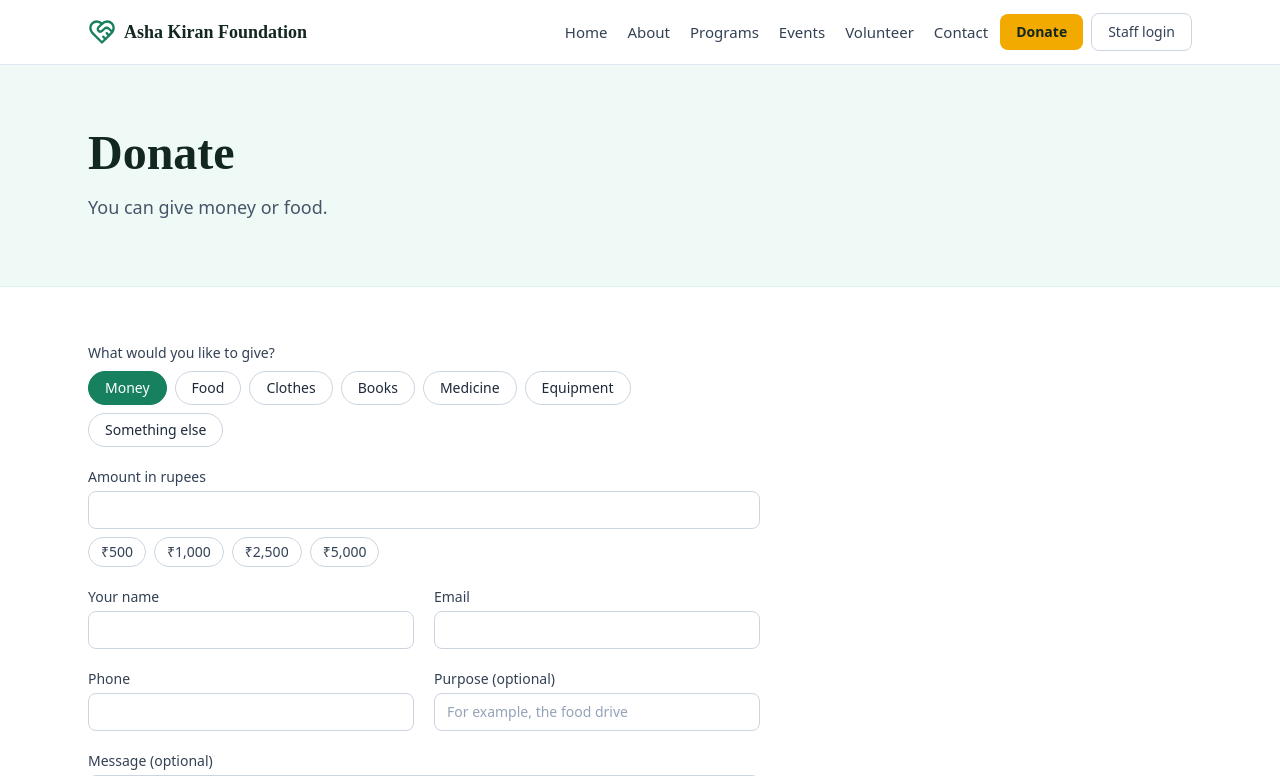
it: donation inquiry form › needs an email or a phone number
Step 1. Type "Ravi" into the field labelled "Your name" → [251, 630], box [88,611,414,649]
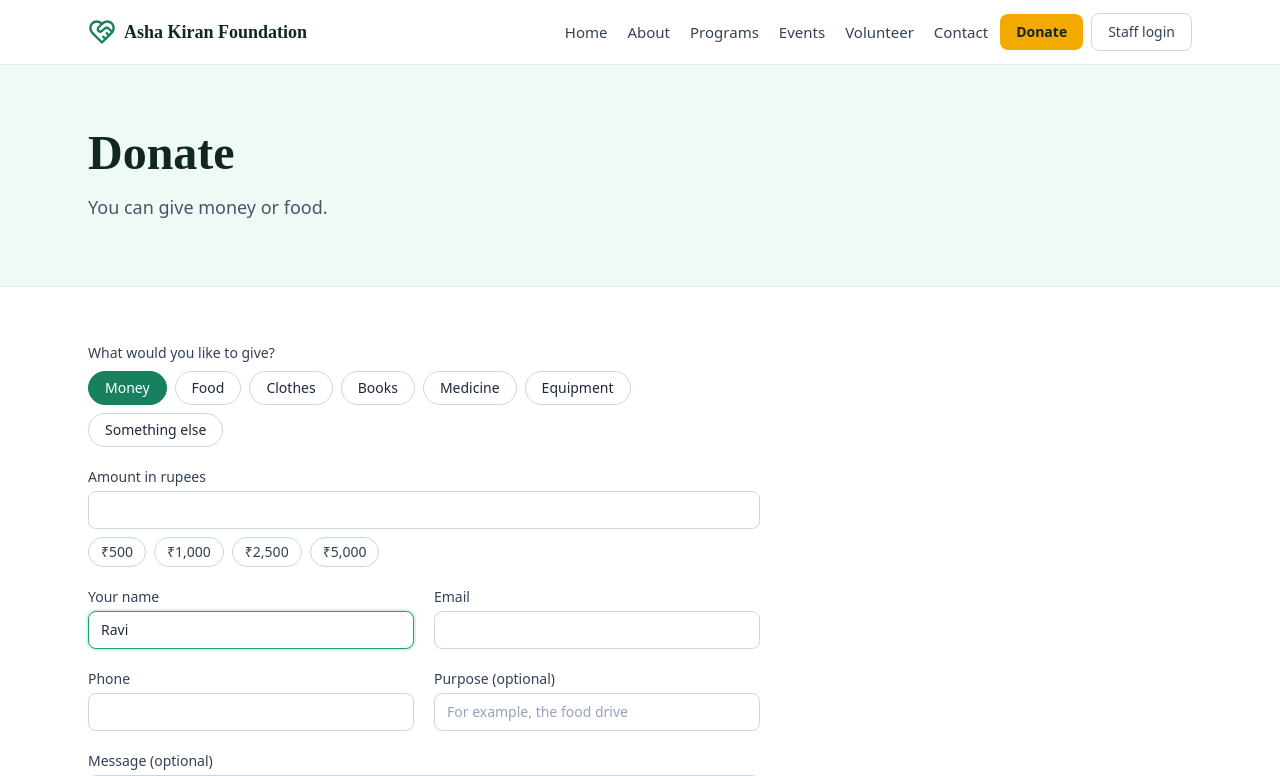
Step 2. Click the button "₹500" → [117, 552], box [88,537,146,567]
(page scrolled)
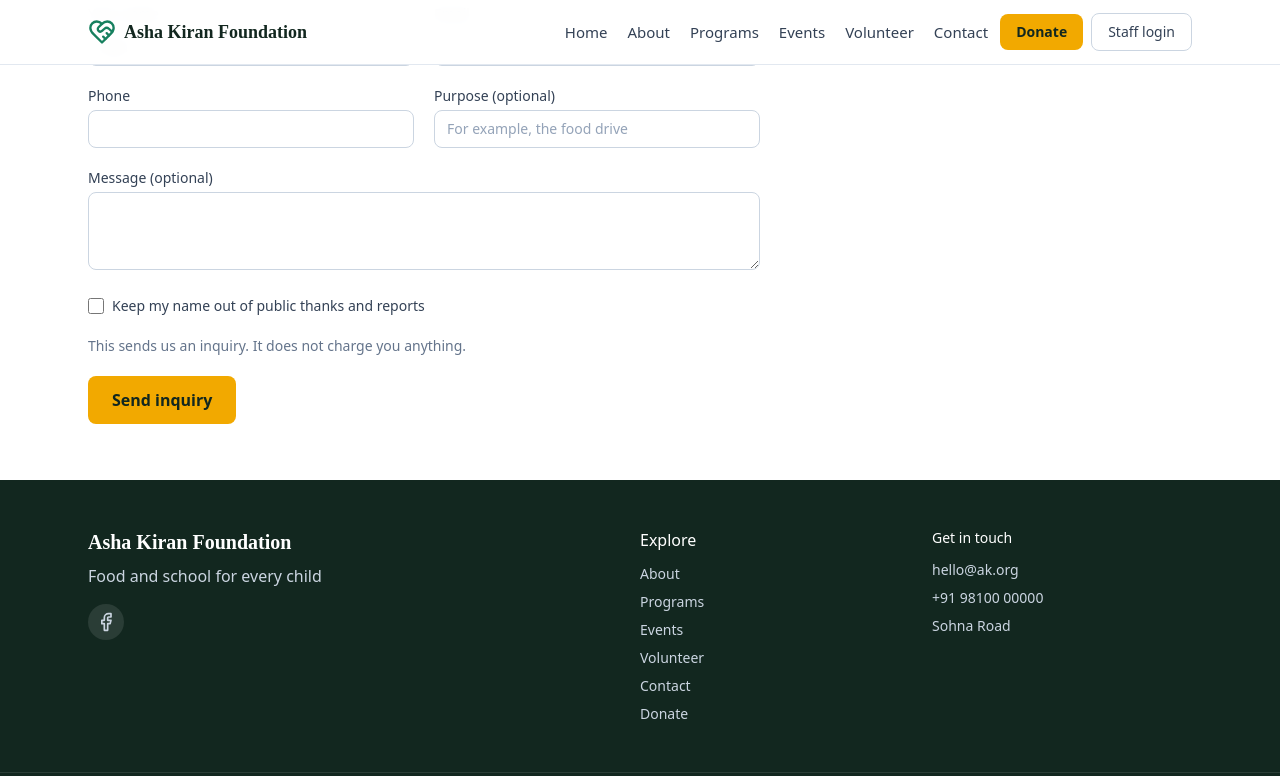
Step 3. Click the button "Send inquiry" → [162, 400], box [88,376,236,424]
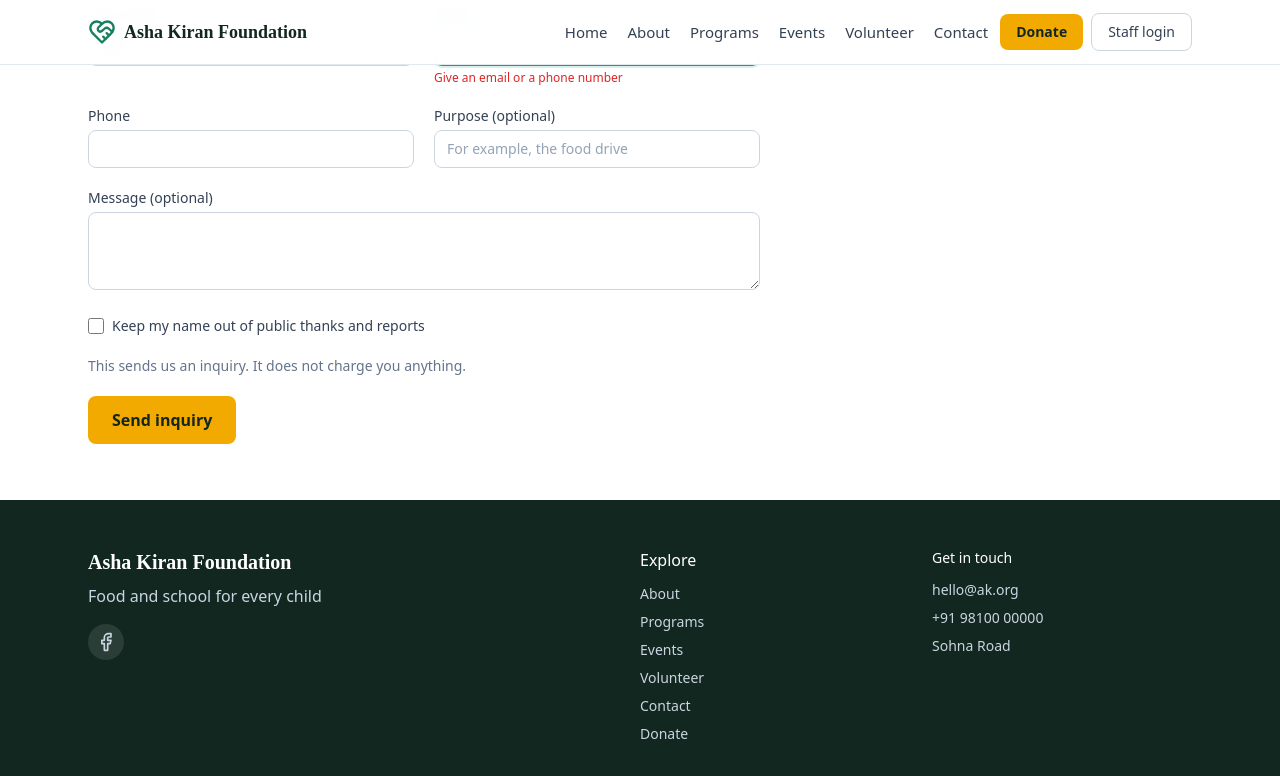
expect the text "Give an email or a phone number" is shown: met, box [434,69,623,86]
